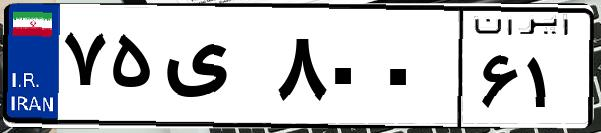0: (385, 28, 445, 110), (330, 28, 385, 110)
1: (525, 38, 570, 115)
5: (110, 28, 158, 98)
6: (475, 38, 525, 113)
7: (57, 26, 110, 100)
8: (270, 28, 330, 110)
ی: (158, 20, 270, 120)
